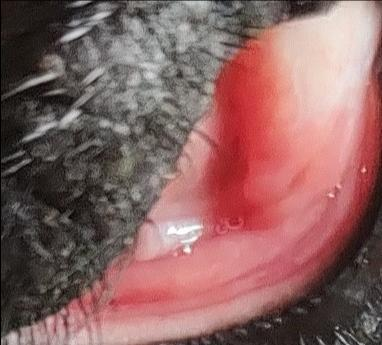eye_membrane: (0, 1, 382, 344)
